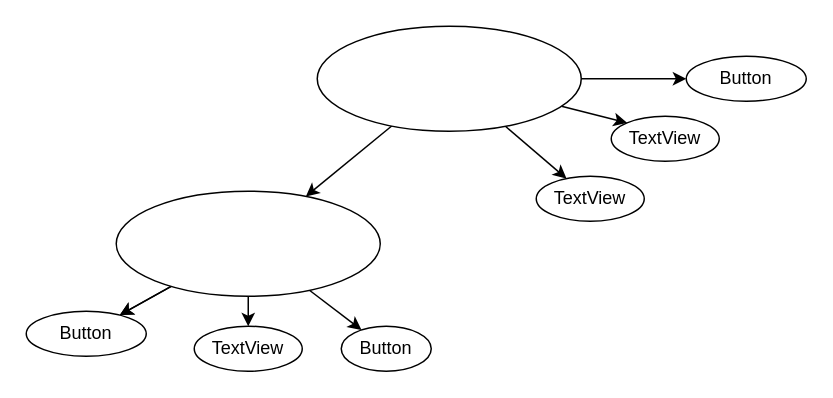
Image size: 833x398. Some labels were removed from this diagram. Here are the shapes that lost their labels. From the top down, the box of each, then its label:
(316, 25, 581, 131): LinearLayout (vertical orientation)
(115, 190, 380, 296): LinearLayout (Horizontal orientation)
